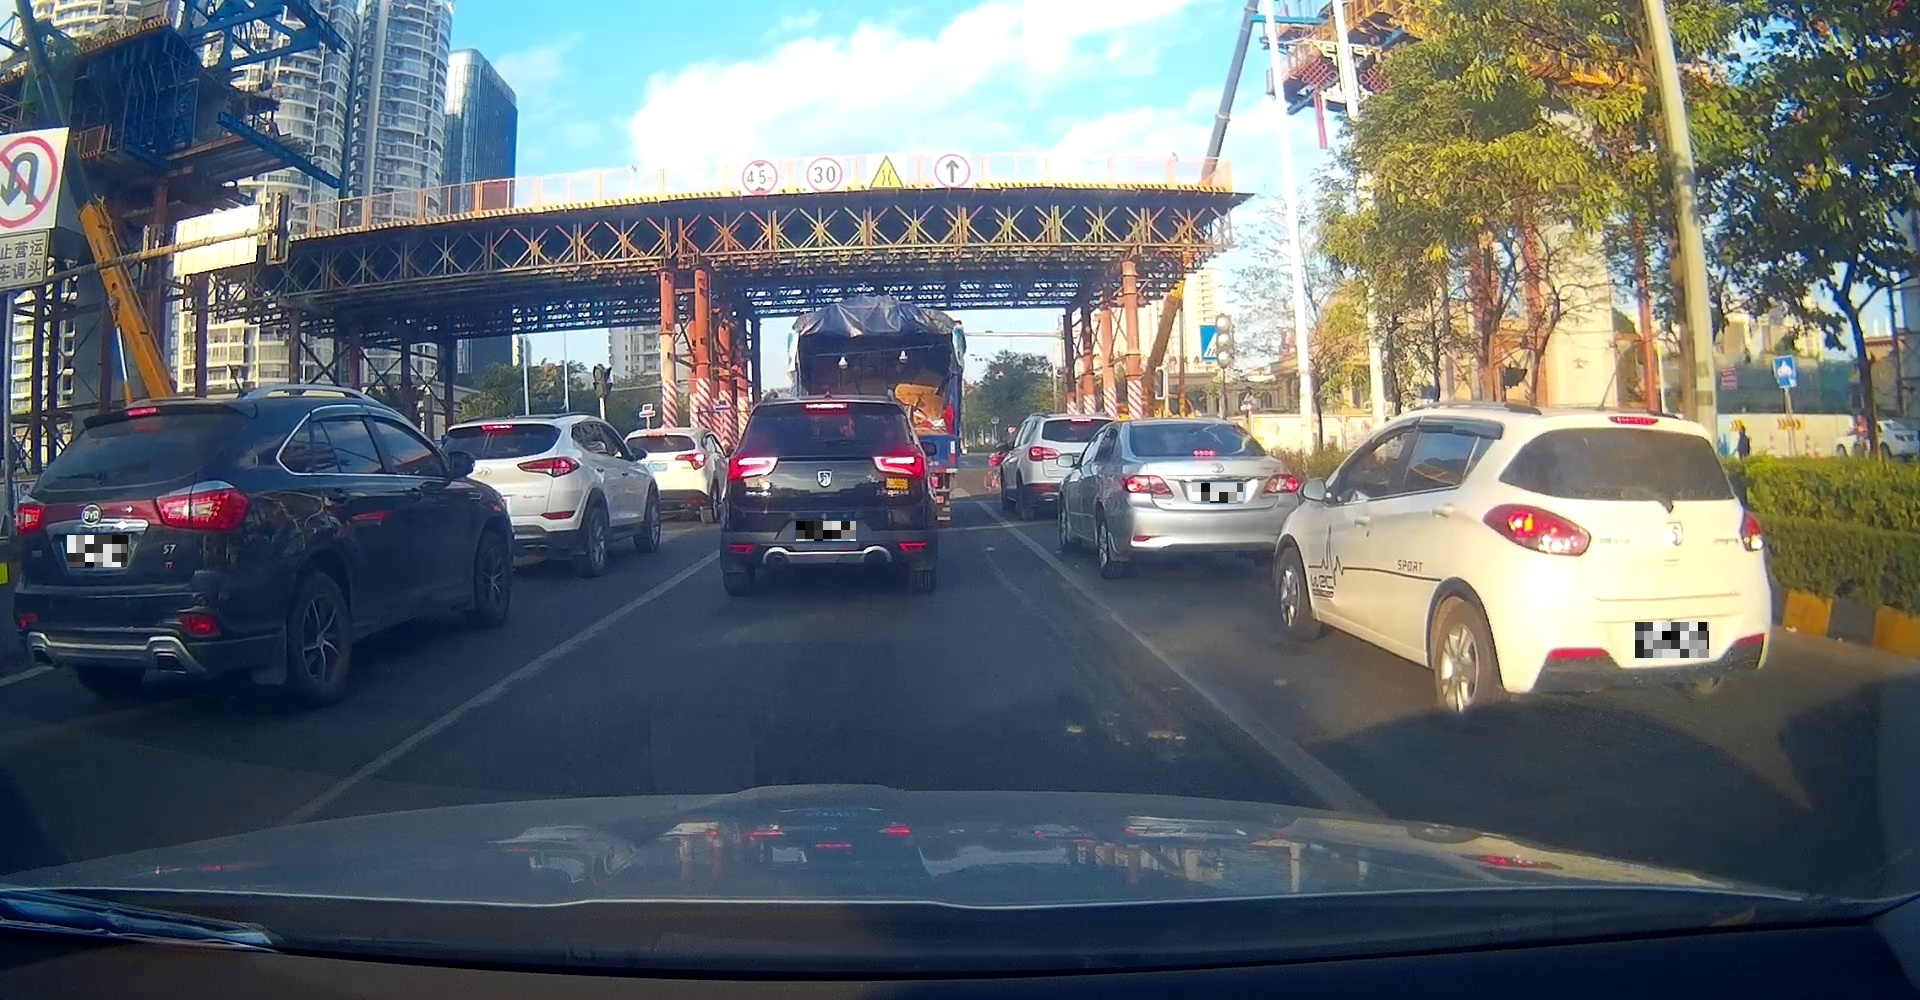L_light: (1482, 503, 1591, 556), (13, 494, 46, 534), (725, 456, 778, 480), (1121, 475, 1172, 494)
R_light: (154, 478, 250, 530), (872, 453, 926, 478), (1738, 508, 1765, 552), (1261, 472, 1299, 492)
T_light: (1608, 415, 1658, 425), (805, 401, 848, 409), (127, 407, 157, 416), (1192, 449, 1217, 456)
day-brake: (1478, 409, 1773, 728), (10, 398, 262, 708), (717, 393, 938, 595), (1117, 418, 1300, 577)
plate_1: (67, 536, 127, 567)
plate_2: (796, 522, 856, 541)
plate_3: (1192, 484, 1243, 503)
plate_4: (1636, 622, 1709, 659)
